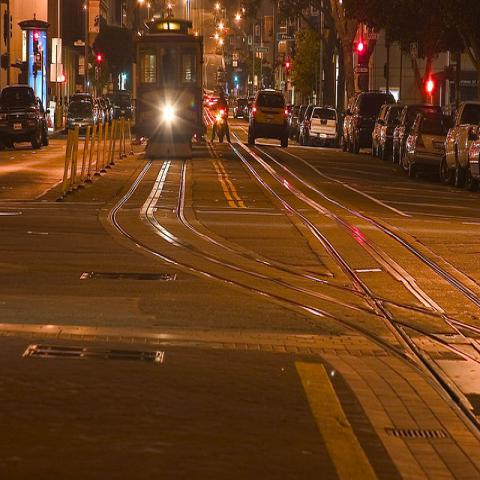car: (72, 47, 427, 168), (340, 90, 396, 155), (402, 108, 452, 179), (440, 99, 480, 185), (0, 83, 43, 150), (248, 86, 289, 148), (376, 98, 406, 161), (298, 103, 339, 146), (65, 100, 94, 132), (466, 124, 479, 191), (36, 96, 50, 147), (112, 91, 133, 122), (232, 98, 246, 118), (104, 98, 113, 126)
motorcycle: (215, 108, 227, 143)
